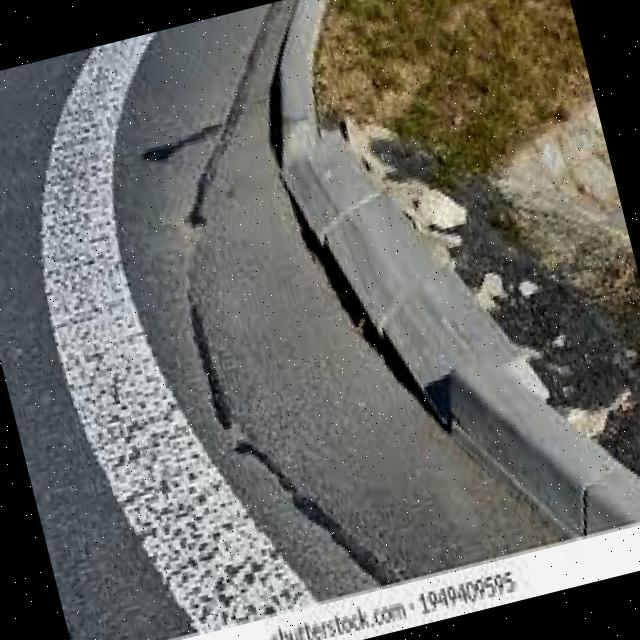curb: (412, 353, 623, 546), (381, 257, 526, 409), (326, 184, 451, 322), (279, 130, 380, 241)
